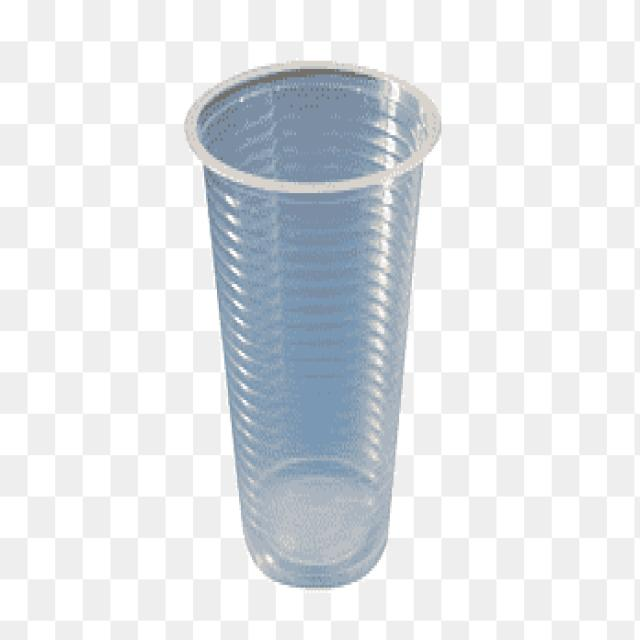Gelas: (183, 66, 440, 594)
